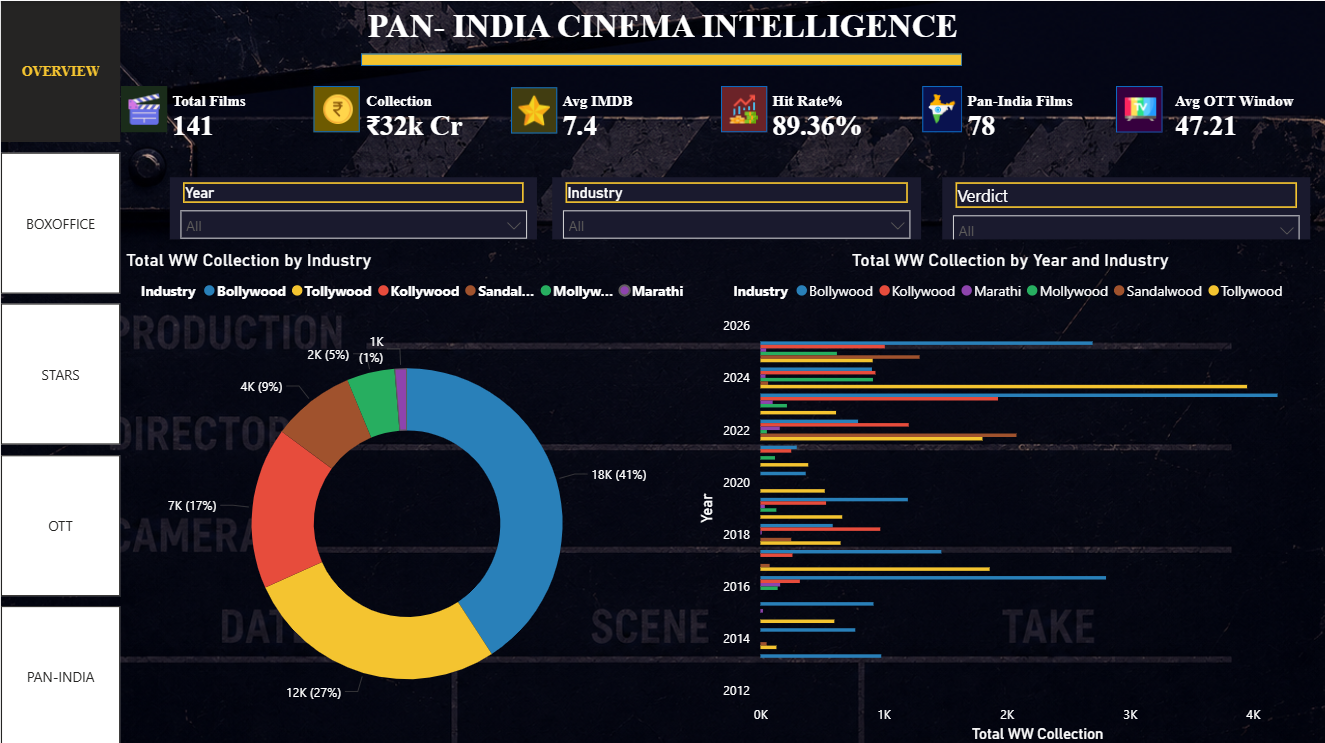

The dashboard page shown, as its layout file describes it:
{"tool":"powerbi","page":{"name":"OVERVIEW","canvas":[1280,720],"ordinal":0},"visuals":[{"type":"shape","box":[115.8,82,44.6,44.6],"z":0,"group":"g1"},{"type":"shape","box":[889.1,82,38.6,44.6],"z":0,"group":"g9"},{"type":"shape","box":[1076.1,82,45,45],"z":0,"group":"g8"},{"type":"donutChart","fields":{"Category":["Movies.Industry"],"Y":["Movies.Total WW Collection"]},"box":[115.8,240.1,552.5,480.2],"z":0},{"type":"image","box":[123,89.2,30.2,30.2],"z":1000,"group":"g1"},{"type":"image","box":[894.3,89.2,28.2,30.2],"z":1000,"group":"g9"},{"type":"image","box":[1084.6,89.3,30.4,30.4],"z":1000,"group":"g8"},{"type":"clusteredBarChart","fields":{"Category":["Movies.Year"],"Y":["Movies.Total WW Collection"],"Series":["Movies.Industry"]},"box":[668.4,240.1,611.7,480.2],"z":1000},{"type":"slicer","fields":{"Values":["Movies.Year"]},"box":[162.9,170.1,354.7,60.3],"z":2000},{"type":"slicer","fields":{"Values":["Movies.Industry"]},"box":[532,170.1,355.9,60.3],"z":3000},{"type":"slicer","fields":{"Values":["Movies.Verdict"]},"box":[908.4,170.1,355,60.3],"z":4000},{"type":"textbox","box":[323.3,0,631,70],"z":5000},{"type":"shape","box":[347.5,50.7,580.3,12.1],"z":6000},{"type":"pageNavigator","box":[0,0,115.8,720.2],"z":7000},{"type":"group","id":"g1","title":"Group 1","box":[115.8,82,44.6,44.6],"z":7000,"group":"g2"},{"type":"group","id":"g2","title":"Group 7","box":[115.8,82,185.8,59.1],"z":8000},{"type":"textbox","box":[160.4,82,141.2,59.1],"z":8000,"group":"g2"},{"type":"group","id":"g3","title":"Group 8","box":[301.6,82,193.8,59.1],"z":9000},{"type":"shape","box":[301.6,82,44.6,44.6],"z":9000,"group":"g12"},{"type":"textbox","box":[347.4,82,148,59.1],"z":9000,"group":"g3"},{"type":"group","id":"g4","title":"Group 9","box":[492.2,82,203.9,59.1],"z":10000},{"type":"textbox","box":[536.8,82,159.3,59.1],"z":10000,"group":"g4"},{"type":"image","box":[310,89.2,30.2,30.2],"z":10000,"group":"g12"},{"type":"group","id":"g5","title":"Group 10","box":[694.9,82,194.2,59.1],"z":11000},{"type":"textbox","box":[739.5,82,149.6,59.1],"z":11000,"group":"g5"},{"type":"group","id":"g6","title":"Group 11","box":[889.1,82,187,59.1],"z":12000},{"type":"textbox","box":[927.7,82,148.4,59.1],"z":12000,"group":"g6"},{"type":"shape","box":[492.2,83.2,44.6,44.6],"z":12000,"group":"g11"},{"type":"group","id":"g7","title":"Group 12","box":[1076.1,82,203.9,59.1],"z":13000},{"type":"textbox","box":[1128,82,152,59.1],"z":13000,"group":"g7"},{"type":"image","box":[497,90.4,35,30.2],"z":13000,"group":"g11"},{"type":"shape","box":[694.9,82,44.6,44.6],"z":15000,"group":"g10"},{"type":"group","id":"g8","title":"Group 2","box":[1076.1,82,45,45],"z":15000,"group":"g7"},{"type":"group","id":"g9","title":"Group 3","box":[889.1,82,38.6,44.6],"z":16000,"group":"g6"},{"type":"group","id":"g10","title":"Group 4","box":[694.9,82,44.6,44.6],"z":17000,"group":"g5"},{"type":"image","box":[702.1,89.2,30.2,30.2],"z":17000,"group":"g10"},{"type":"group","id":"g11","title":"Group 5","box":[492.2,83.2,44.6,44.6],"z":18000,"group":"g4"},{"type":"group","id":"g12","title":"Group 6","box":[301.6,82,44.6,44.6],"z":19000,"group":"g3"}]}

Visuals, with their boxes in screenshot pixels (x1, y1, x2, y2), scaled from the page's 1280x720 canvas onto the 1325x743 screenshot:
shape: <region>120, 85, 166, 131</region>
shape: <region>920, 85, 960, 131</region>
shape: <region>1114, 85, 1161, 131</region>
donutChart - Movies.Industry x Movies.Total WW Collection: <region>120, 248, 692, 742</region>
image: <region>127, 92, 159, 123</region>
image: <region>926, 92, 955, 123</region>
image: <region>1123, 92, 1154, 124</region>
clusteredBarChart - Movies.Year x Movies.Total WW Collection: <region>692, 248, 1324, 742</region>
slicer - Movies.Year: <region>169, 176, 536, 238</region>
slicer - Movies.Industry: <region>551, 176, 919, 238</region>
slicer - Movies.Verdict: <region>940, 176, 1308, 238</region>
textbox: <region>335, 0, 988, 72</region>
shape: <region>360, 52, 960, 65</region>
pageNavigator: <region>0, 0, 120, 742</region>
"Group 1" group: <region>120, 85, 166, 131</region>
"Group 7" group: <region>120, 85, 312, 146</region>
textbox: <region>166, 85, 312, 146</region>
"Group 8" group: <region>312, 85, 513, 146</region>
shape: <region>312, 85, 358, 131</region>
textbox: <region>360, 85, 513, 146</region>
"Group 9" group: <region>510, 85, 721, 146</region>
textbox: <region>556, 85, 721, 146</region>
image: <region>321, 92, 352, 123</region>
"Group 10" group: <region>719, 85, 920, 146</region>
textbox: <region>765, 85, 920, 146</region>
"Group 11" group: <region>920, 85, 1114, 146</region>
textbox: <region>960, 85, 1114, 146</region>
shape: <region>510, 86, 556, 132</region>
"Group 12" group: <region>1114, 85, 1324, 146</region>
textbox: <region>1168, 85, 1324, 146</region>
image: <region>514, 93, 551, 124</region>
shape: <region>719, 85, 765, 131</region>
"Group 2" group: <region>1114, 85, 1161, 131</region>
"Group 3" group: <region>920, 85, 960, 131</region>
"Group 4" group: <region>719, 85, 765, 131</region>
image: <region>727, 92, 758, 123</region>
"Group 5" group: <region>510, 86, 556, 132</region>
"Group 6" group: <region>312, 85, 358, 131</region>
